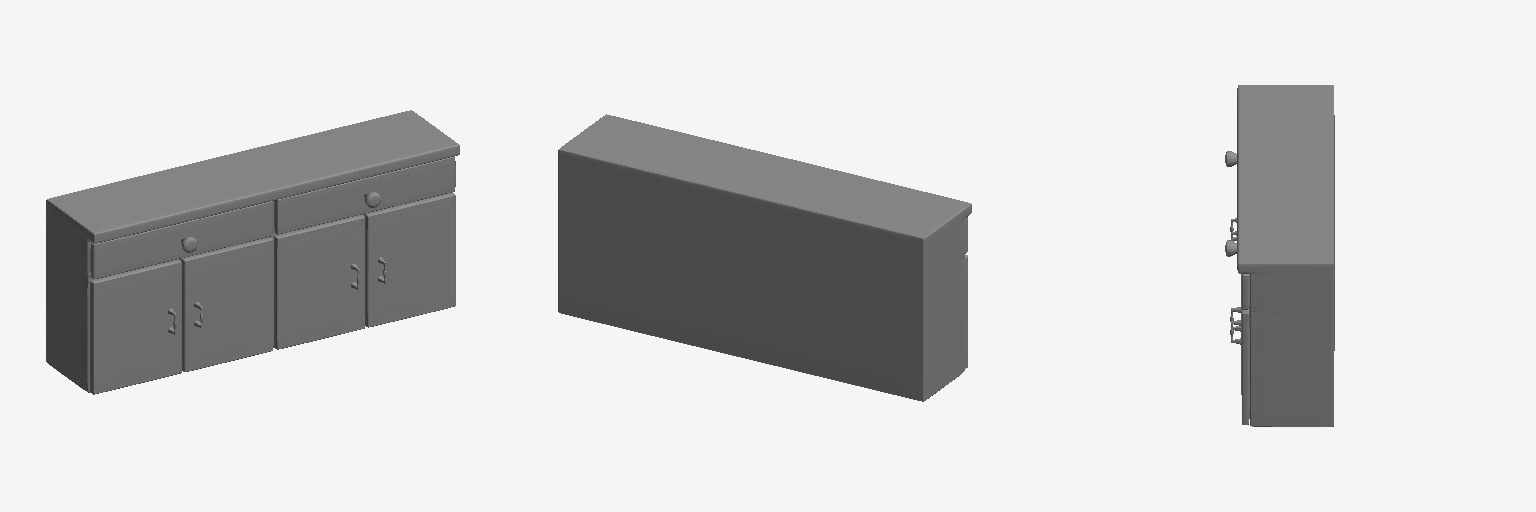
Rendered from gabinete2.obj.
3 views of the same model, side by side, from view 1: azimuth 30°, elevation 25°; view 2: azimuth 150°, elevation 25°; view 3: azimuth 270°, elevation 25° (orthographic).
Parts seen in each view (by area): view 1: Base_Cube, 1_Left_Door_Cube_006, 1_Right_Door_Cube_017, 2_Right_Door_Cube_016, 2_Left_Door_Cube_008, 1_Banister_Cube_001, 2_Banister_Cube_007; view 2: Base_Cube; view 3: Base_Cube, 2_Right_Door_Cube_016.
Boxes of the visible parts, x1=… form: Base_Cube: x1=46, y1=110, x2=459, y2=392; 1_Left_Door_Cube_006: x1=90, y1=259, x2=181, y2=394; 1_Right_Door_Cube_017: x1=181, y1=237, x2=272, y2=371; 2_Right_Door_Cube_016: x1=365, y1=193, x2=455, y2=327; 2_Left_Door_Cube_008: x1=274, y1=215, x2=364, y2=349; 1_Banister_Cube_001: x1=90, y1=201, x2=272, y2=278; 2_Banister_Cube_007: x1=274, y1=156, x2=455, y2=234; Base_Cube: x1=558, y1=114, x2=971, y2=401; Base_Cube: x1=1237, y1=85, x2=1334, y2=426; 2_Right_Door_Cube_016: x1=1241, y1=301, x2=1249, y2=424.
Size of the model in its own units: 10 by 4.3 by 2.58.